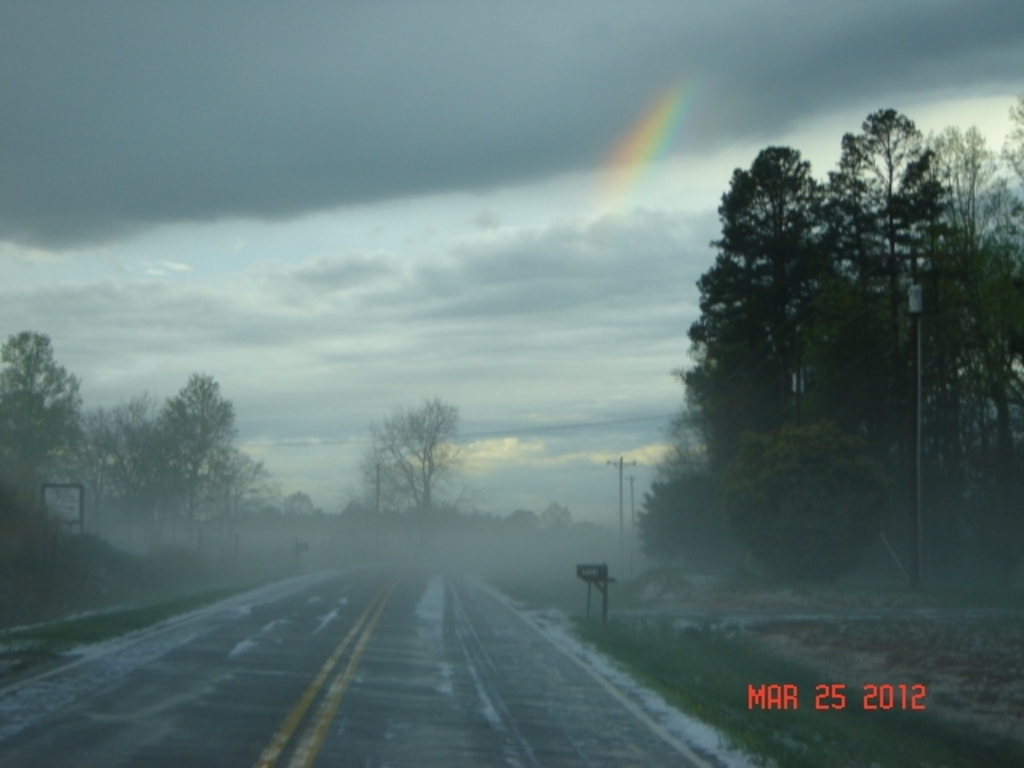Tree: (666, 144, 865, 463), (0, 331, 270, 540), (830, 106, 962, 499), (726, 420, 885, 575), (359, 394, 467, 510), (634, 470, 723, 569)
